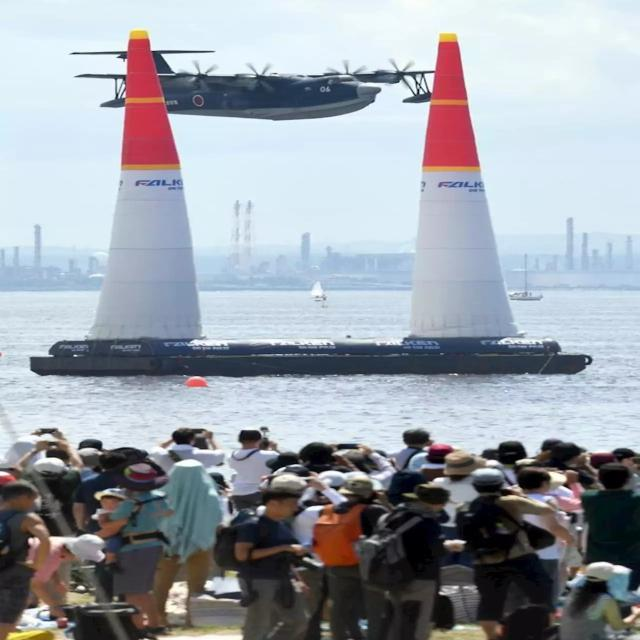MIL_Plane: (68, 50, 435, 121)
